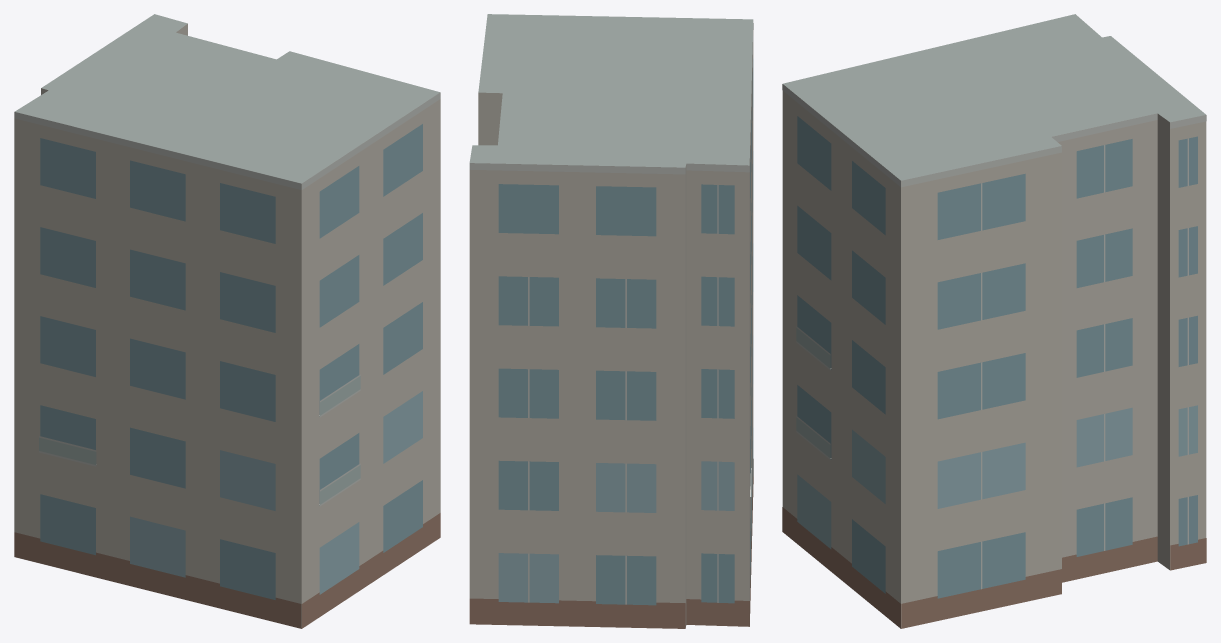
Rendered from survey-upis-32836659.glb.
3 views of the same model, side by side, from view 1: azimuth 30°, elevation 25°; view 2: azimuth 150°, elevation 25°; view 3: azimuth 270°, elevation 25° (orthographic). The views are drawn at different scales.
Parts seen in each view (by area): view 1: survey-upis-32836659.tmp; view 2: survey-upis-32836659.tmp; view 3: survey-upis-32836659.tmp.
Boxes of the visible parts, x1=… form: survey-upis-32836659.tmp: x1=14, y1=14, x2=440, y2=628; survey-upis-32836659.tmp: x1=469, y1=14, x2=753, y2=628; survey-upis-32836659.tmp: x1=782, y1=14, x2=1206, y2=628.
Size of the model in its own units: 13.26 by 16.6 by 14.24.
